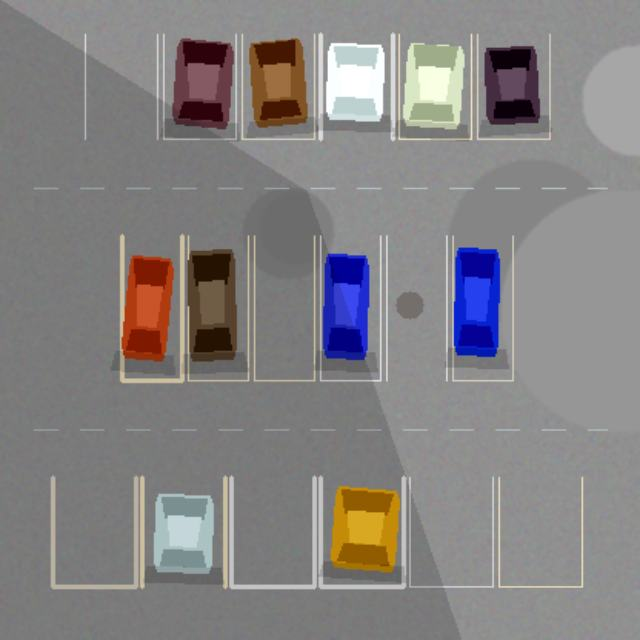space-empty: (498, 477, 582, 586), (52, 477, 135, 586), (231, 477, 314, 586), (409, 477, 492, 586), (254, 235, 314, 380), (386, 235, 446, 380), (85, 34, 157, 138)
space-occupied: (142, 477, 225, 586), (320, 477, 403, 586), (122, 235, 182, 380), (188, 235, 248, 380), (320, 235, 380, 380), (452, 235, 512, 380), (398, 34, 471, 138), (163, 34, 235, 138), (242, 34, 314, 138), (320, 34, 392, 138), (477, 34, 549, 138)
